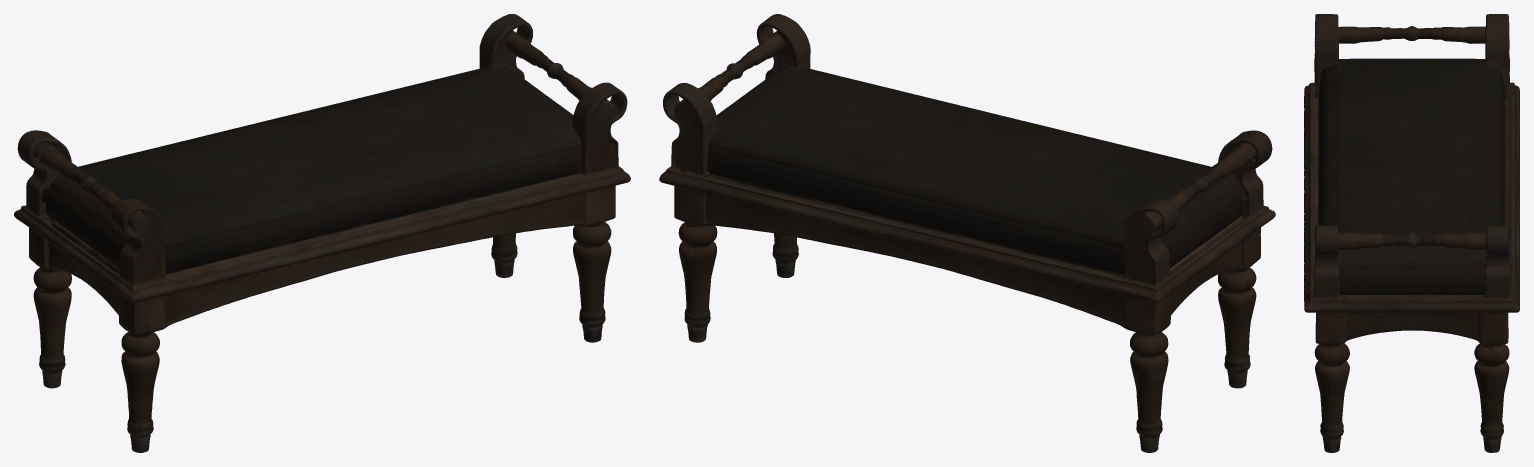
File: piano_bench.glb
3 renders of one model, left to right at view 1: azimuth 30°, elevation 25°; view 2: azimuth 150°, elevation 25°; view 3: azimuth 270°, elevation 25°, orthographic. The views are drawn at different scales.
Visible parts, largest first — view 1: geometry_0; view 2: geometry_0; view 3: geometry_0.
Part boxes in pixels (x1,y1,x2,y2): geometry_0: (14,14,630,452); geometry_0: (659,14,1275,452); geometry_0: (1304,14,1519,452).
Bounding box in the file's own units: 1 × 0.4775 × 0.4085.
Materials: 1 (1 with a texture image).
